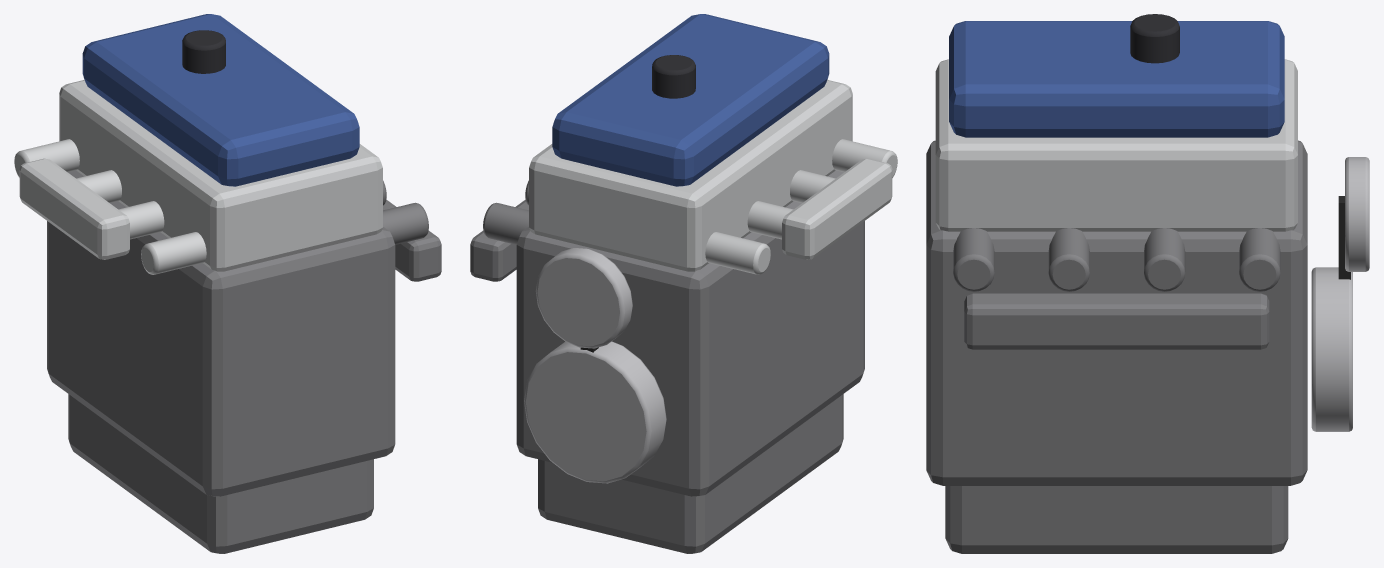
File: engine_i4_sport.glb
3 renders of one model, left to right at view 1: azimuth 30°, elevation 25°; view 2: azimuth 150°, elevation 25°; view 3: azimuth 270°, elevation 25°, orthographic. The views are drawn at different scales.
Visible parts, largest first — view 1: engine_i4_sport; view 2: engine_i4_sport; view 3: engine_i4_sport.
Part boxes in pixels (left/top/right/bottom): engine_i4_sport: left=14, top=14, right=441, bottom=553; engine_i4_sport: left=470, top=14, right=897, bottom=553; engine_i4_sport: left=926, top=14, right=1369, bottom=553.
Size of the model in its own units: 0.5 by 0.655 by 0.535.
